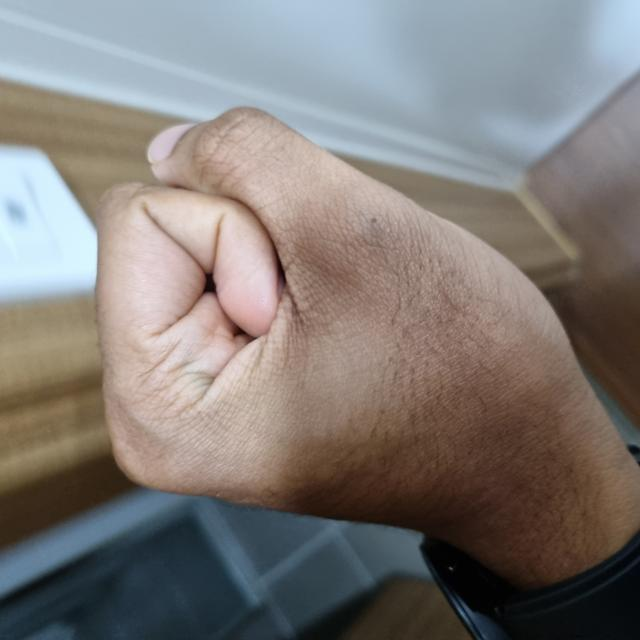Rock: (86, 95, 534, 586)
